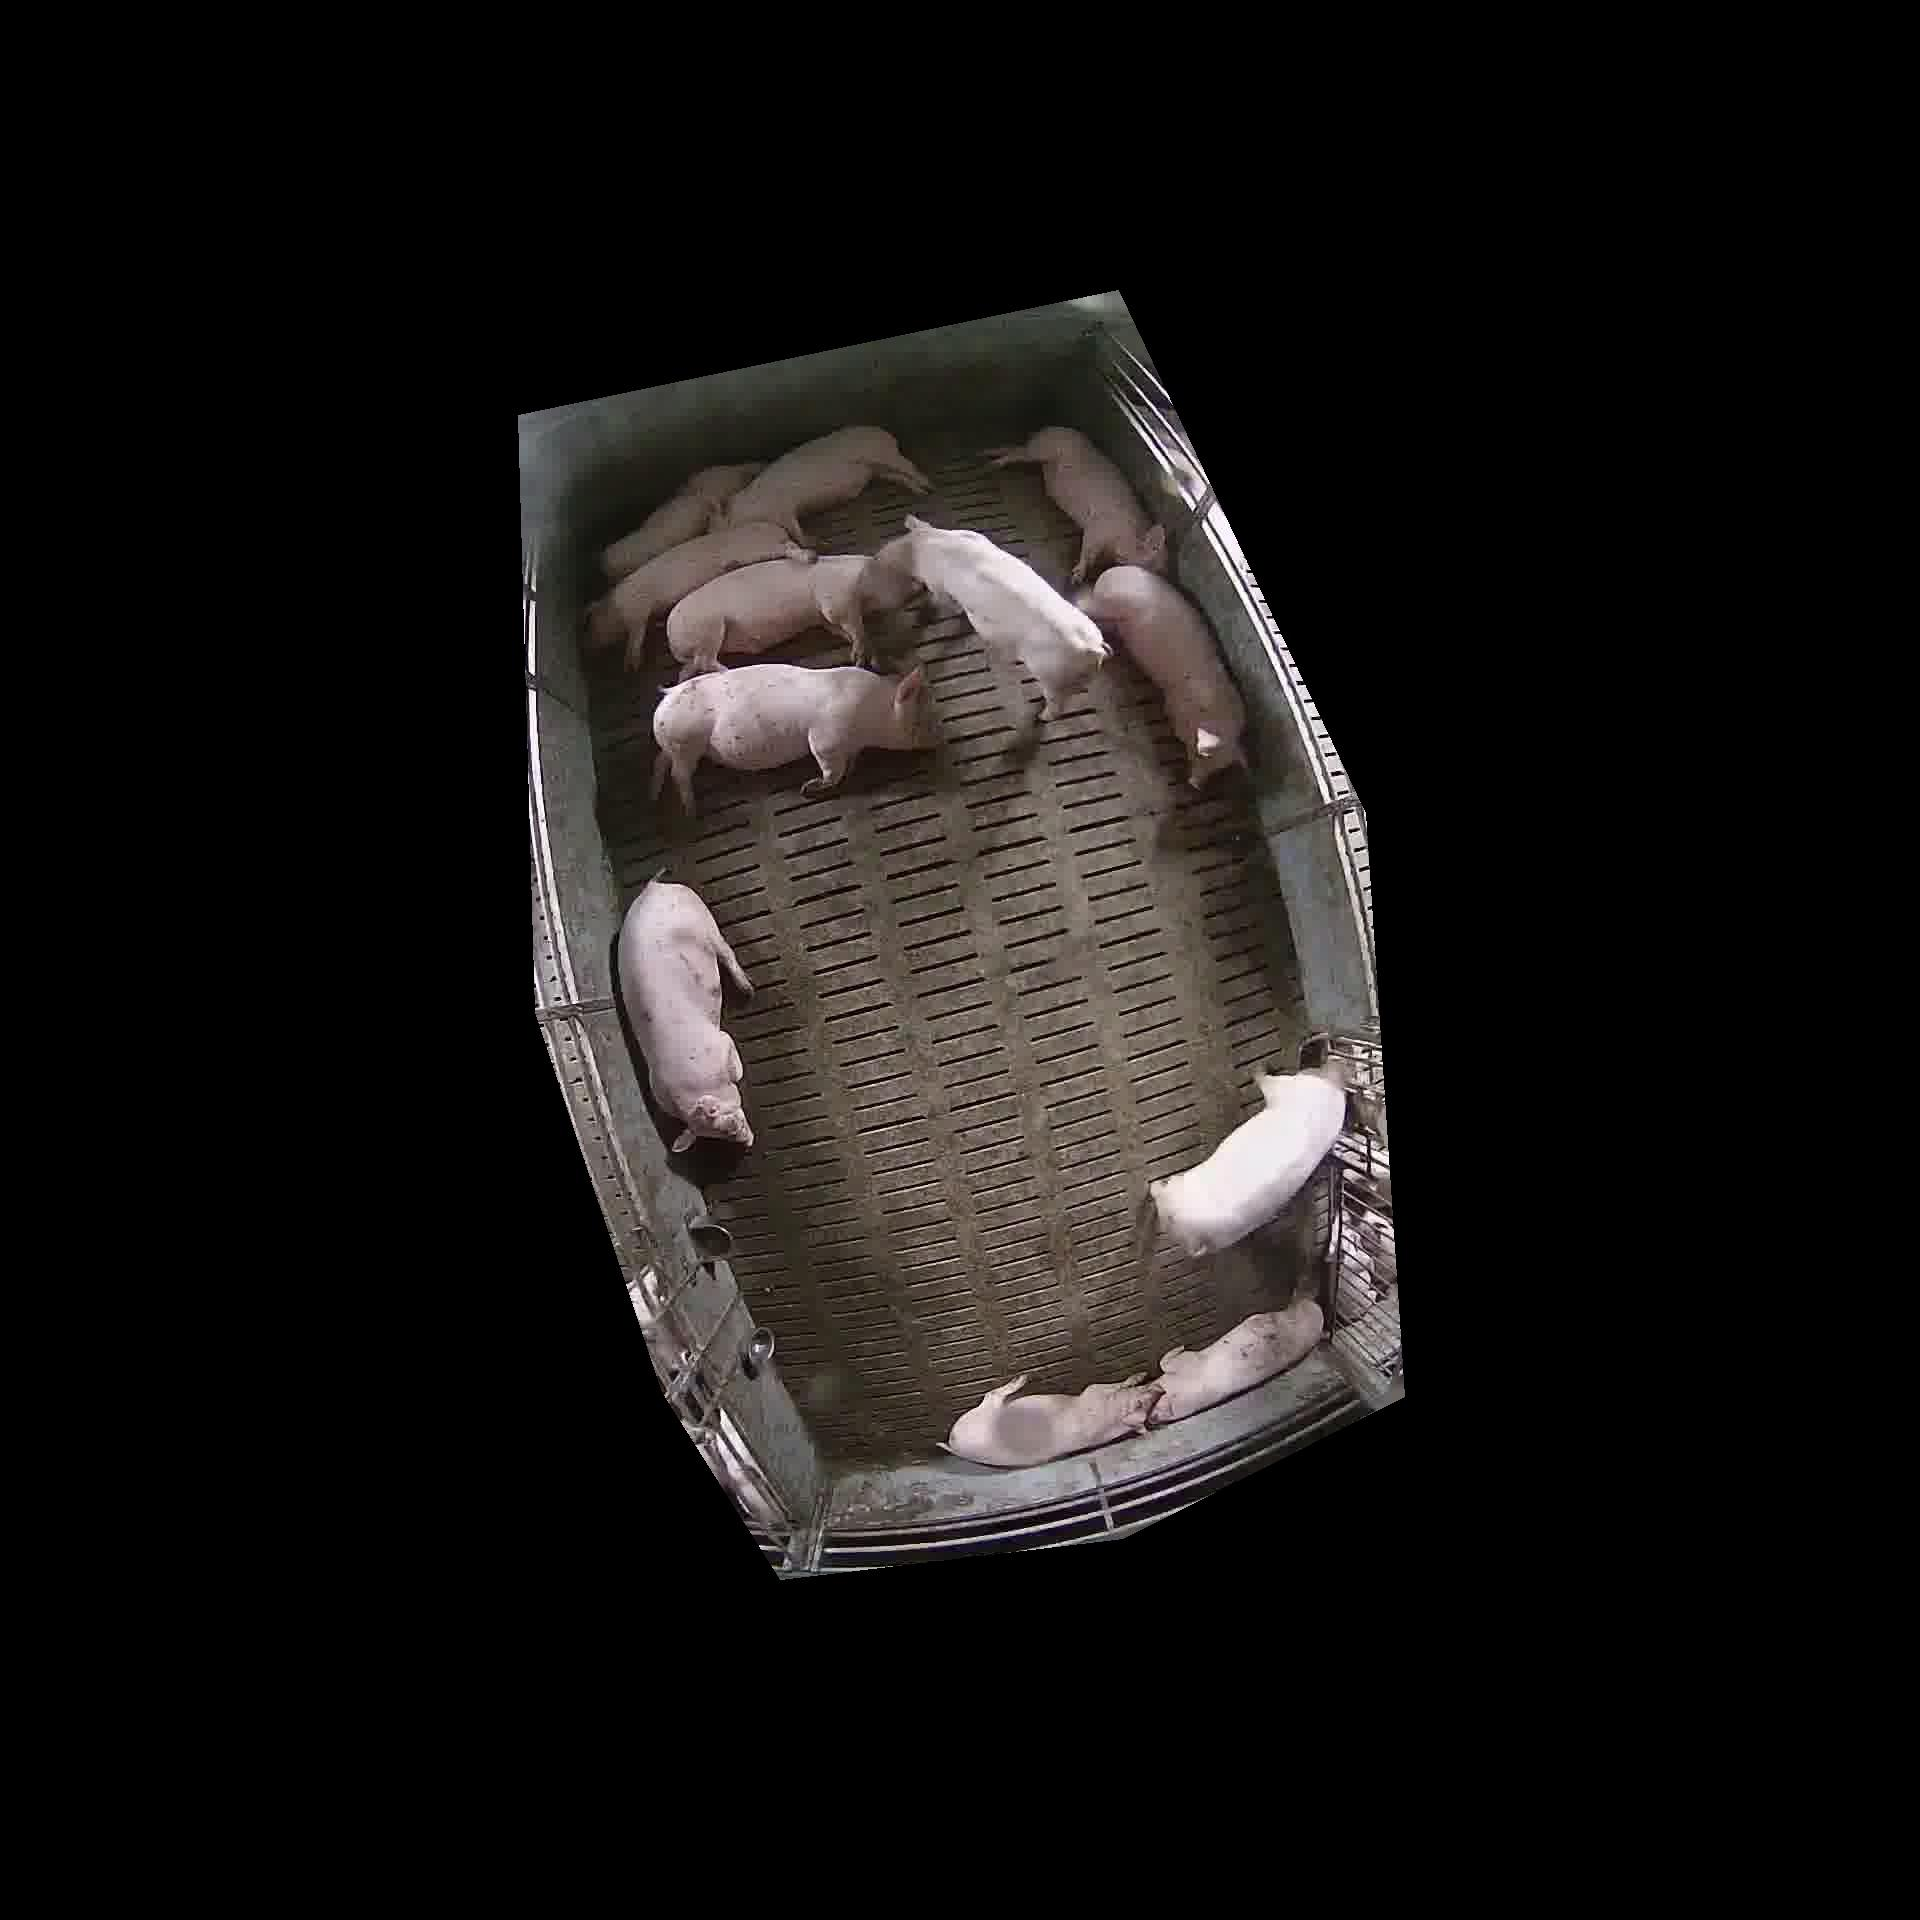pig: (879, 515, 1108, 721), (652, 665, 941, 814), (1074, 566, 1245, 784), (617, 879, 753, 1150), (1152, 1073, 1345, 1255), (587, 522, 807, 668), (666, 556, 918, 679), (986, 425, 1167, 580), (724, 425, 930, 542), (1150, 1298, 1322, 1422), (948, 1375, 1160, 1466), (601, 462, 761, 580)
